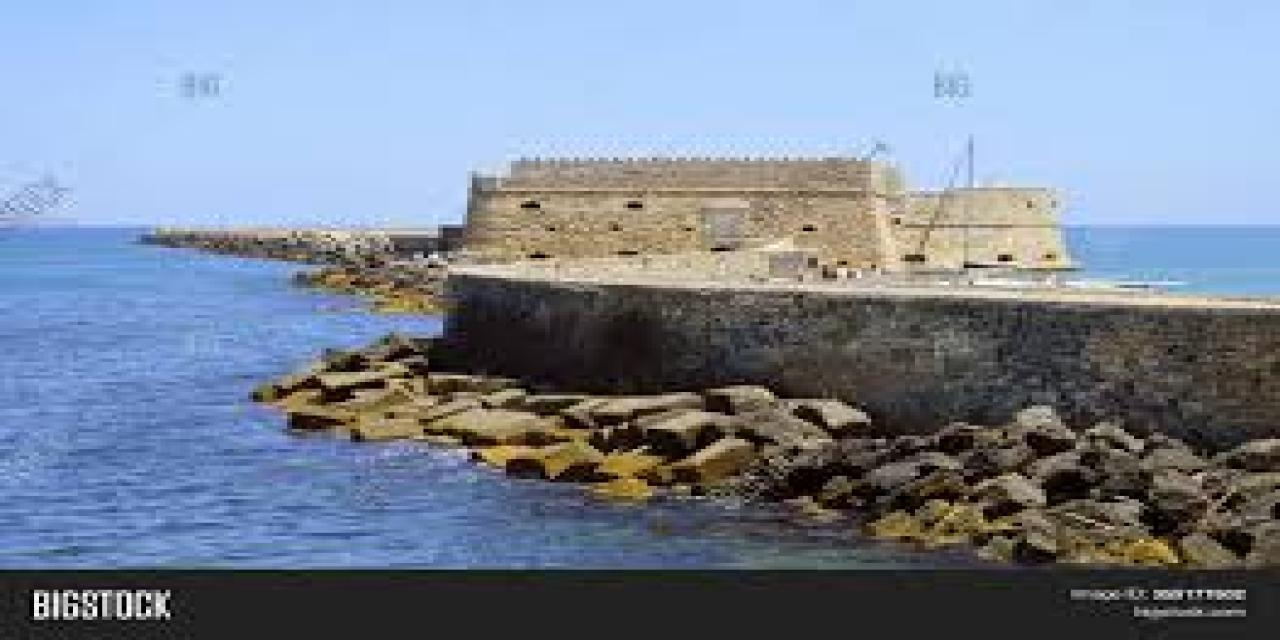Kules: (462, 139, 1079, 277)
